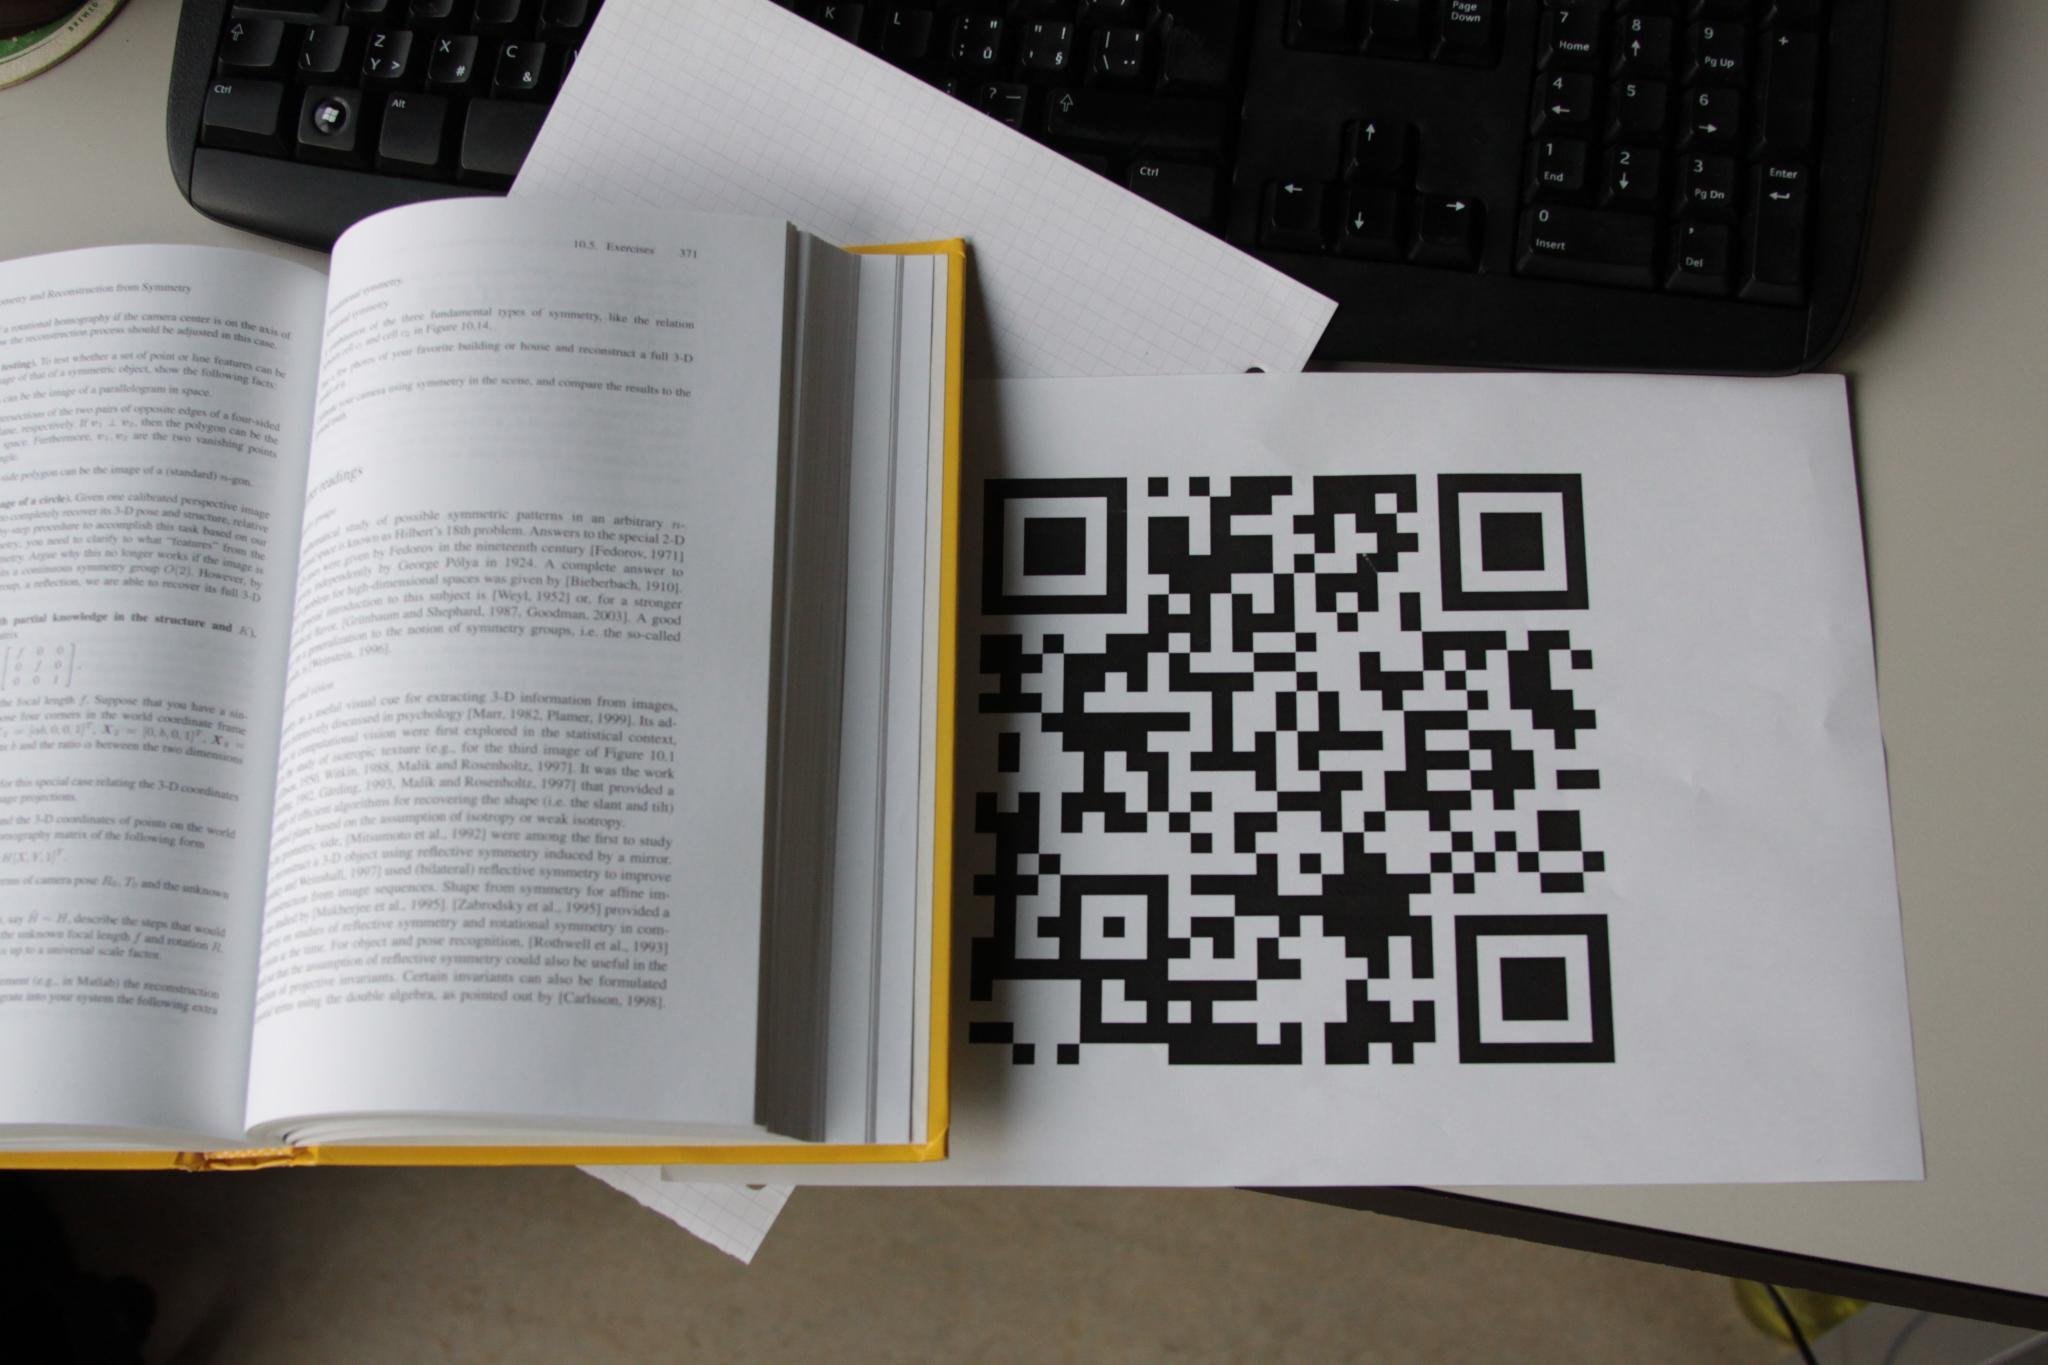Finder pattern: (1442, 893, 1626, 1085), (1421, 457, 1606, 619), (968, 465, 1142, 625)
